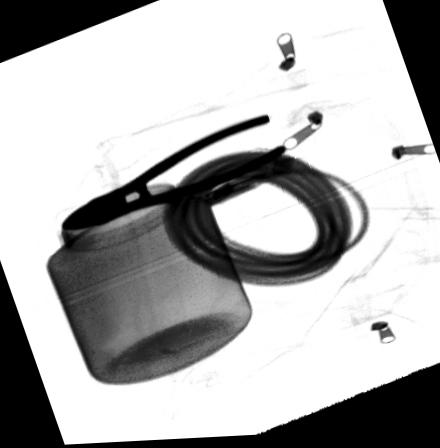Pliers: (60, 116, 287, 231)
